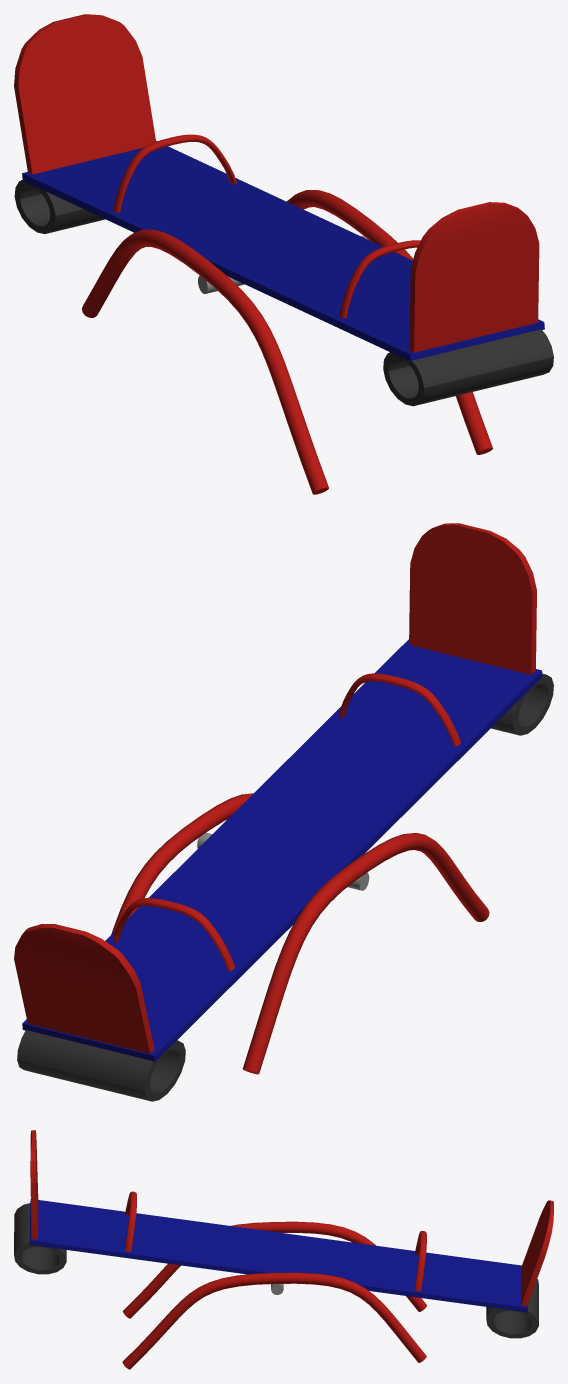
Rendered from bar_2_5315662d71.glb.
The picture shows the model from 3 angles, top to bottom: view 1: azimuth 30°, elevation 25°; view 2: azimuth 150°, elevation 25°; view 3: azimuth 270°, elevation 25°; orthographic projection. The views are drawn at different scales.
Parts seen in each view (by area): view 1: swing; view 2: swing; view 3: swing.
Boxes of the visible parts, box(x1,y1,x2,y2) form: swing: box(14, 14, 553, 494); swing: box(14, 523, 553, 1101); swing: box(14, 1130, 553, 1369).
Bounding box in the file's own units: 0.4411 × 0.7569 × 1.8.
